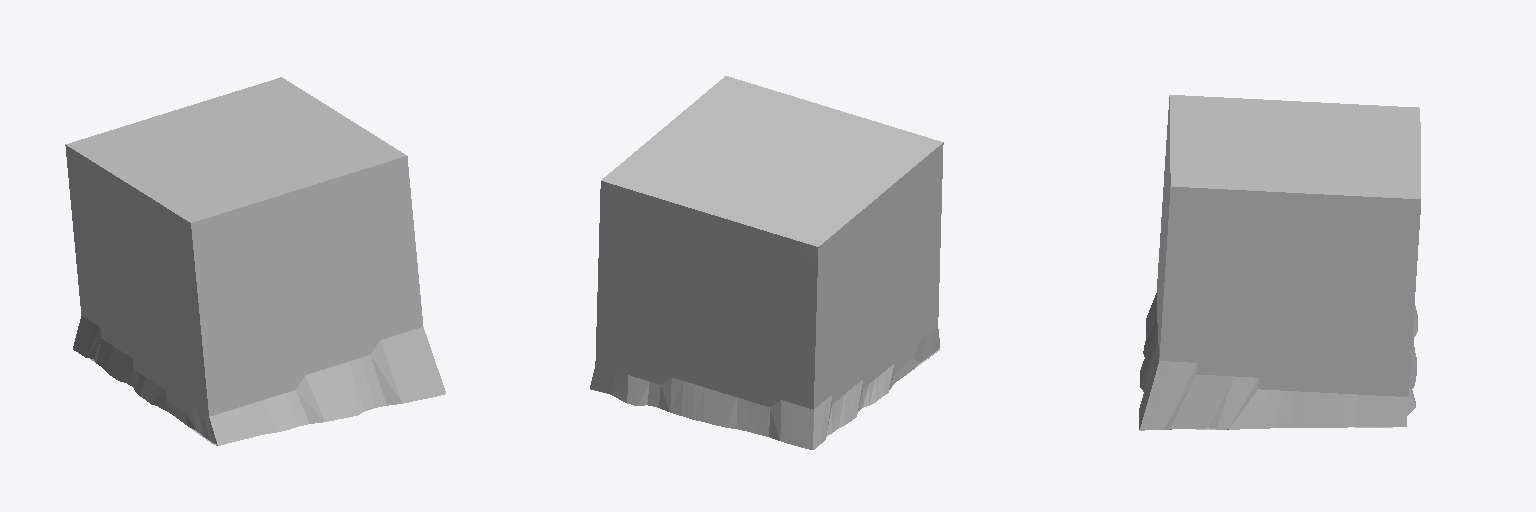
The model's file is mod0001.obj.
3 renders of one model, left to right at view 1: azimuth 30°, elevation 25°; view 2: azimuth 150°, elevation 25°; view 3: azimuth 270°, elevation 25°, orthographic.
Visible parts, largest first — view 1: Box001; view 2: Box001; view 3: Box001.
Boxes of the visible parts, box(x1,y1,x2,y2) form: Box001: box(65, 77, 445, 445); Box001: box(590, 76, 943, 449); Box001: box(1139, 95, 1420, 430).
Bounding box in the file's own units: 0.5952 × 0.5506 × 0.6046.